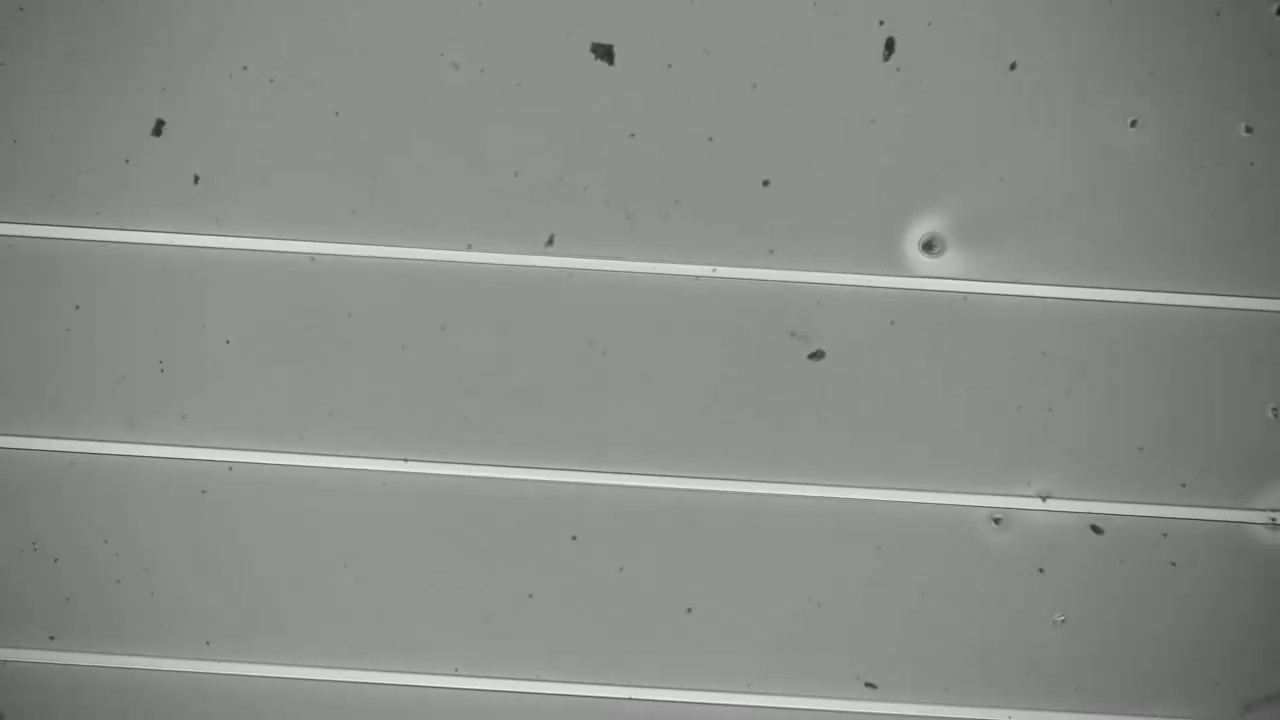stains_enbedded: (1029, 489, 1062, 520)
